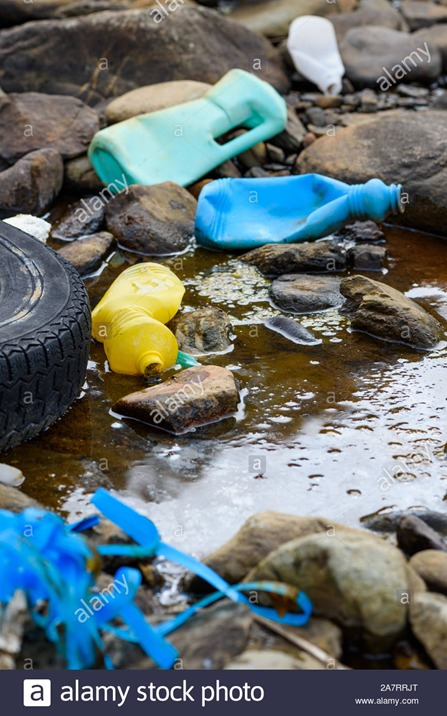Botella: (120, 84, 267, 177), (220, 180, 382, 240), (102, 265, 178, 359), (290, 14, 342, 91)
llanta: (1, 226, 69, 429)
